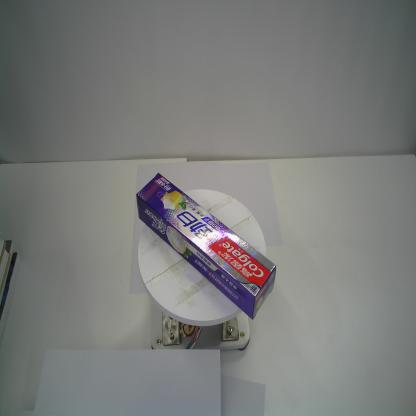Personal Hygiene: (135, 171, 277, 322)
